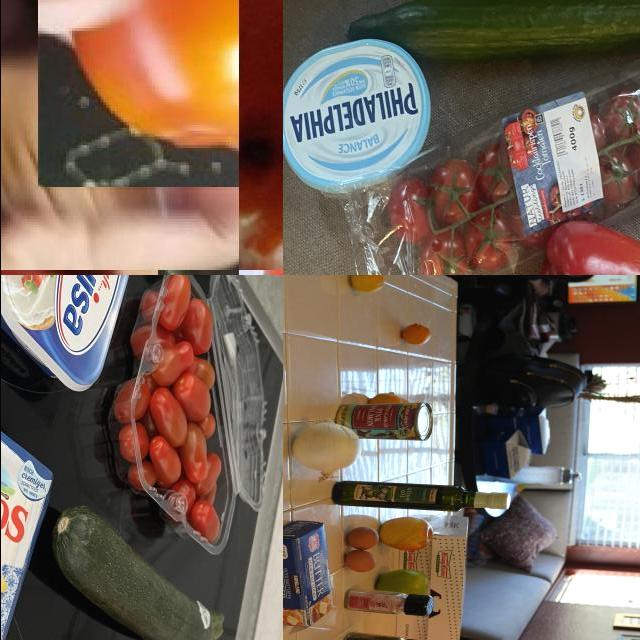bell_pepper: (338, 633, 433, 640)
cucumber: (338, 1, 640, 67)
egg: (344, 526, 380, 551), (343, 551, 376, 576)
onion: (287, 418, 362, 483)
tomato: (359, 80, 640, 276), (41, 1, 239, 191), (133, 276, 247, 546)
zucchini: (50, 491, 239, 640)
